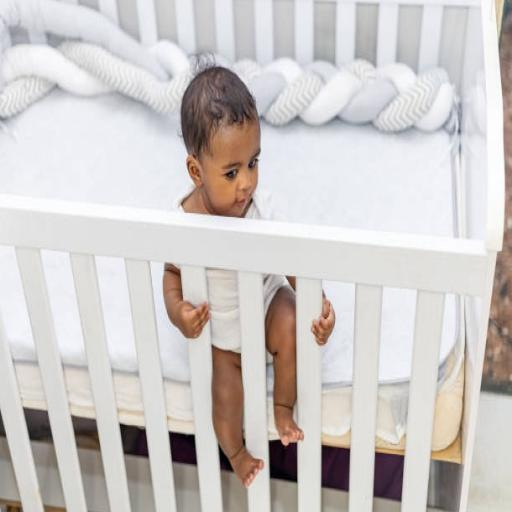baby: (163, 264, 262, 486)
crib: (0, 0, 503, 510)
